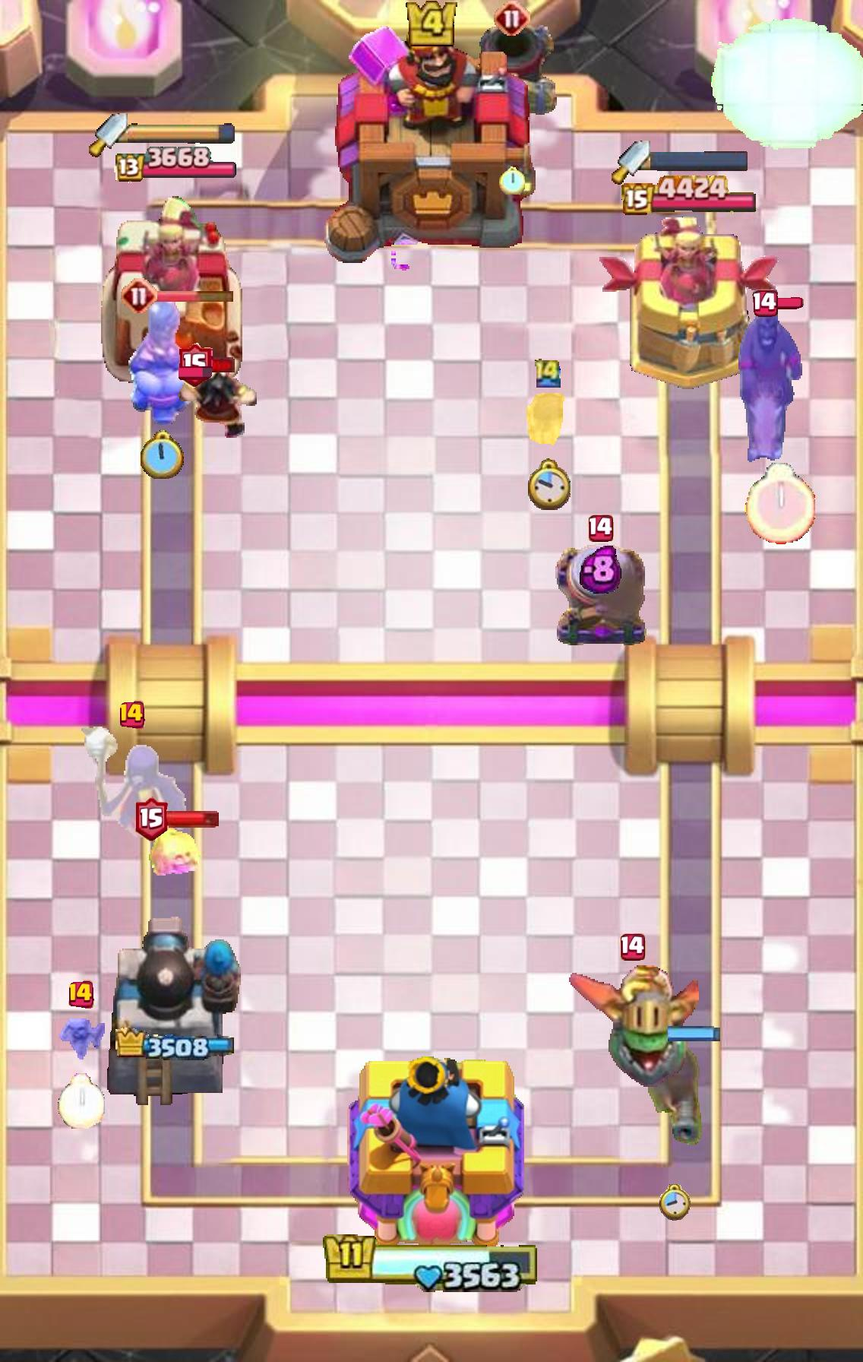elixir: (579, 544, 621, 593)
musketeer: (647, 1036, 702, 1145)
skeleton-evolution: (524, 393, 571, 451)
